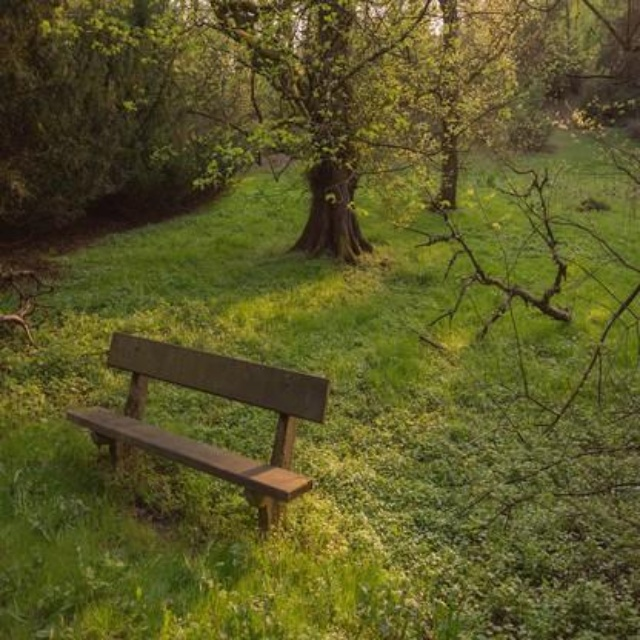obstacle: (55, 329, 346, 545)
